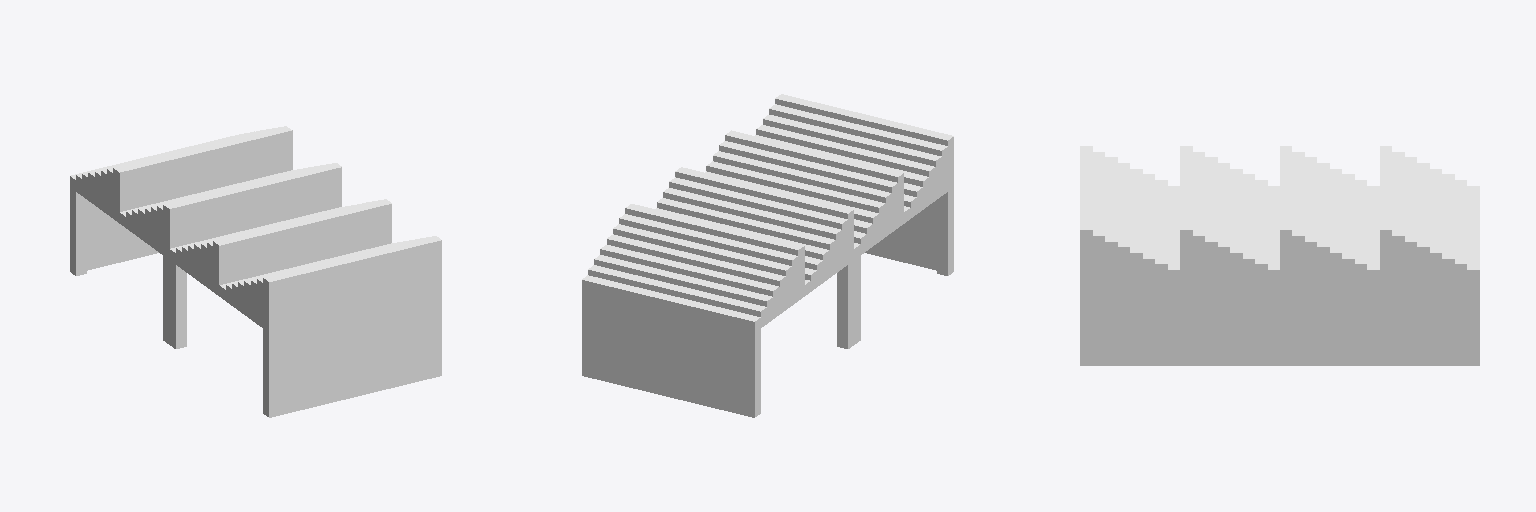
Rendered from vehicul_depot.obj.
3 renders of one model, left to right at view 1: azimuth 30°, elevation 25°; view 2: azimuth 150°, elevation 25°; view 3: azimuth 270°, elevation 25°, orthographic.
Parts seen in each view (by area): view 1: object 1; view 2: object 1; view 3: object 1.
Boxes of the visible parts, <box> form: object 1: <box>70,126,441,417</box>; object 1: <box>582,94,953,417</box>; object 1: <box>1080,146,1479,365</box>.
Bounding box in the file's own units: 3.2 × 2.4 × 6.4.